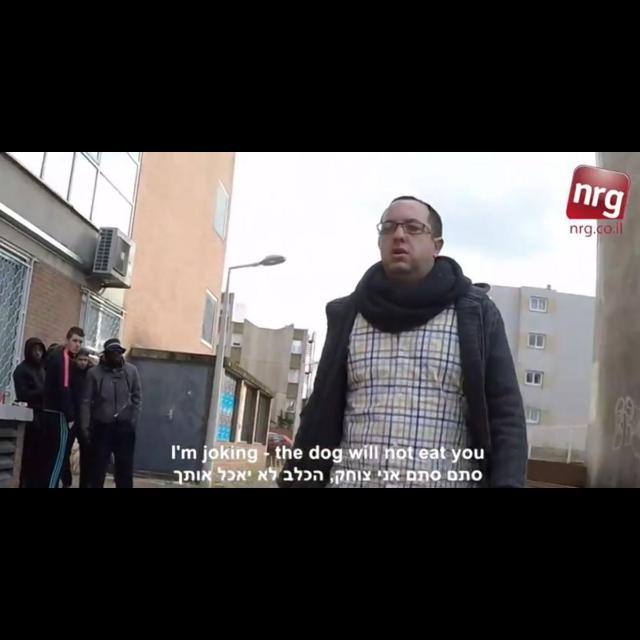head: (377, 198, 445, 278), (65, 328, 85, 354), (26, 339, 46, 361), (105, 343, 124, 365), (74, 348, 90, 369)
